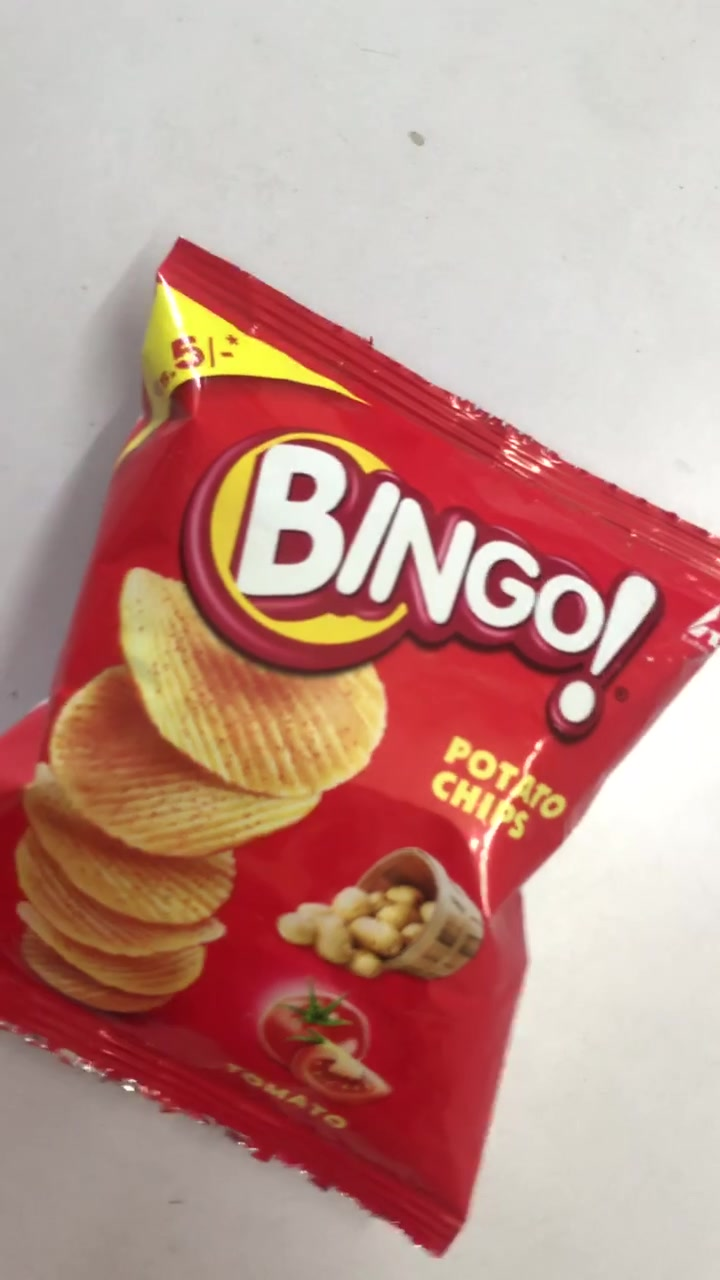Bingo: (1, 245, 717, 1256)
